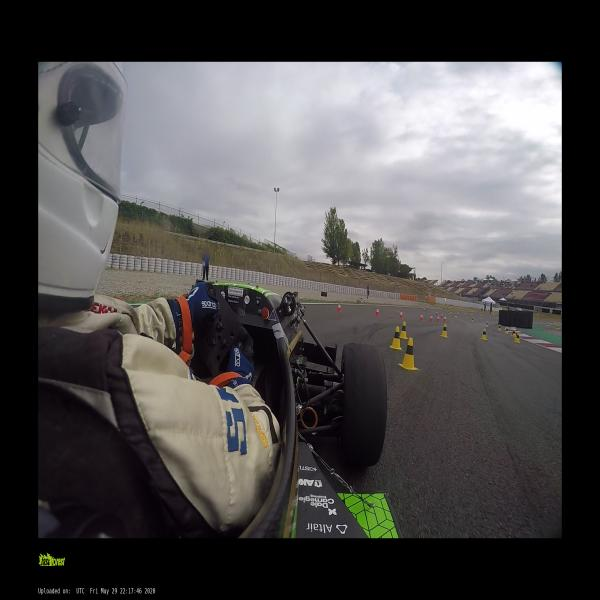orange_cone: (336, 303, 341, 313), (375, 307, 379, 317), (398, 310, 402, 319), (419, 314, 423, 321), (429, 315, 433, 322), (436, 316, 440, 322), (443, 316, 446, 322), (440, 314, 443, 319), (435, 311, 438, 315)
yellow_cone: (398, 338, 420, 371), (388, 326, 402, 350), (398, 320, 408, 340), (439, 324, 448, 338), (479, 328, 488, 341), (514, 333, 520, 344), (511, 329, 517, 338), (514, 332, 519, 340), (504, 327, 509, 334), (484, 322, 489, 328), (497, 325, 501, 330), (471, 317, 474, 322), (454, 314, 457, 318), (448, 310, 450, 315), (450, 310, 452, 314), (458, 311, 460, 314)
